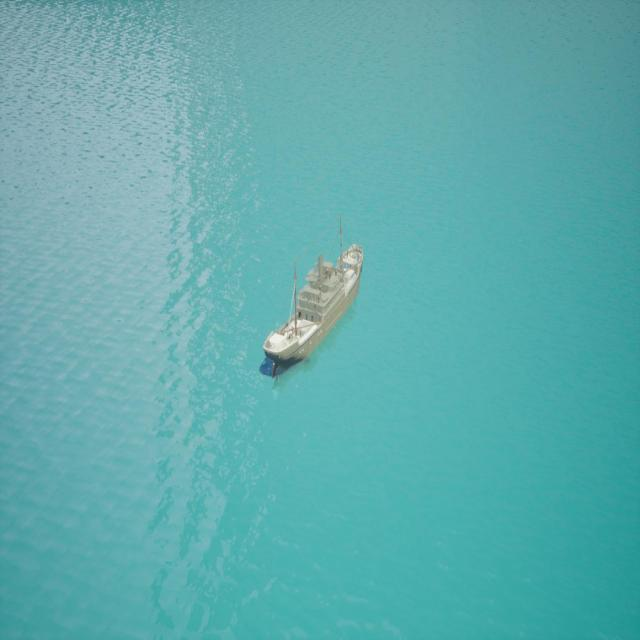fishing ship: (262, 230, 365, 381)
